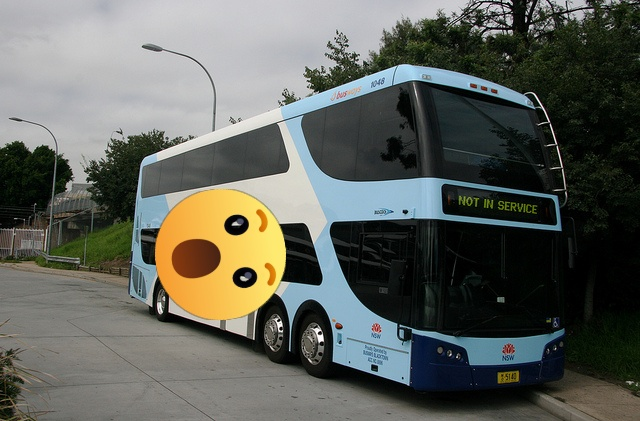wow: (155, 189, 286, 320)
